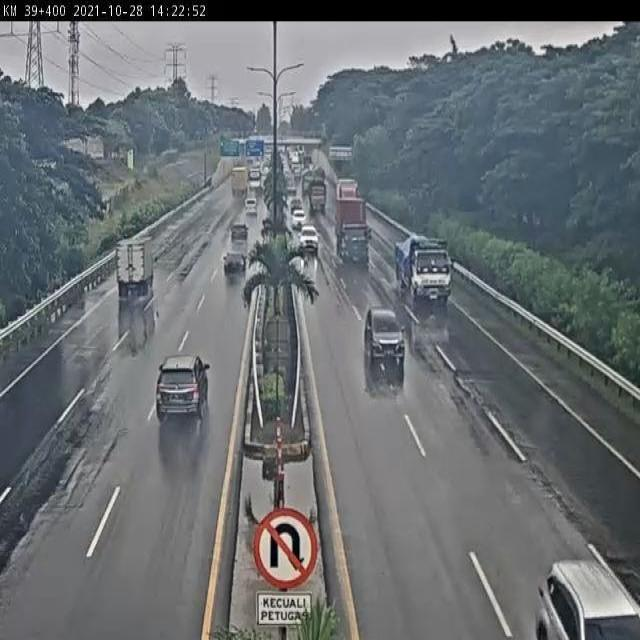Bus: (248, 168, 260, 190)
Car: (155, 353, 210, 424), (363, 308, 405, 388), (298, 224, 319, 253), (222, 253, 246, 276), (291, 207, 306, 230), (261, 164, 271, 185), (293, 165, 302, 179)
Truck: (395, 231, 453, 314), (334, 190, 373, 264), (115, 236, 153, 302), (304, 169, 327, 213), (230, 165, 248, 199)
Van: (245, 196, 258, 216)
